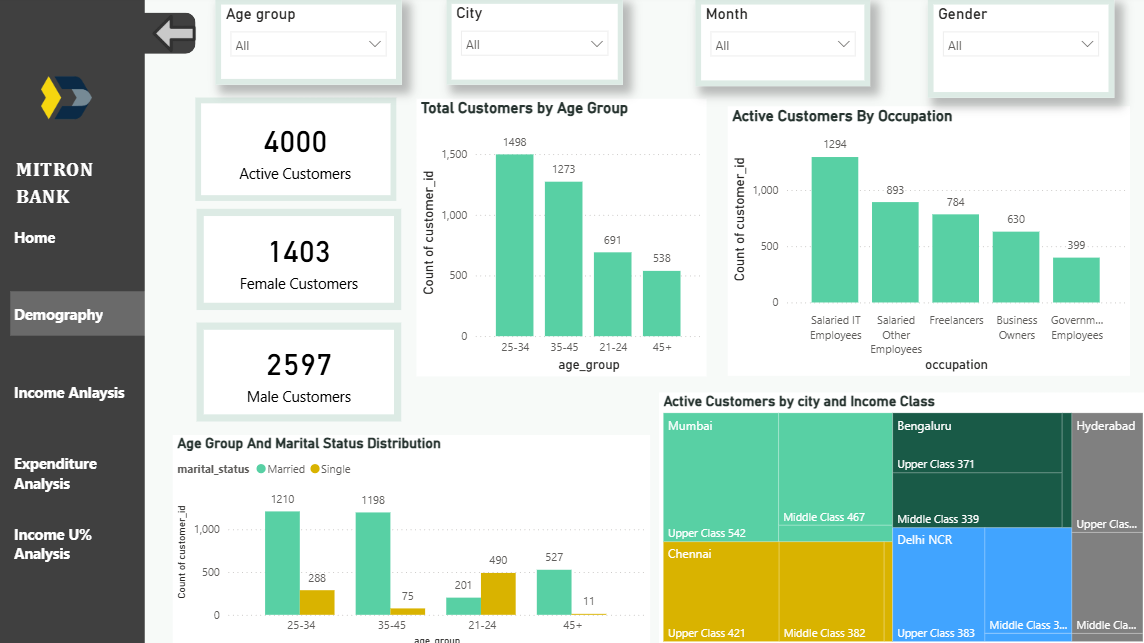

The dashboard page shown, as its layout file describes it:
{"tool":"powerbi","page":{"name":"Demography","canvas":[1280,720],"ordinal":1},"visuals":[{"type":"image","box":[23.9,2.4,101.9,220.5],"z":0,"group":"g1"},{"type":"card","fields":{"Values":["dim_customers_mitron_bank.Active Customers"]},"box":[215.4,112.5,220.9,113.9],"z":0},{"type":"shape","box":[0,0,160,720],"z":1000},{"type":"textbox","box":[13.9,170.1,121.1,72.3],"z":1000,"group":"g1"},{"type":"card","fields":{"Values":["dim_customers_mitron_bank.Female Customers"]},"box":[216.8,234.6,225,111.1],"z":2000},{"type":"shape","box":[150.4,18.6,65,45.4],"z":3000},{"type":"card","fields":{"Values":["dim_customers_mitron_bank.Male Customers"]},"box":[216.8,359.5,225,108.4],"z":4000},{"type":"actionButton","box":[12.5,324.6,147.8,48.9],"z":5000},{"type":"clusteredColumnChart","title":"Total Customers by Age Group","fields":{"Category":["dim_customers_mitron_bank.age_group"],"Y":["Count(dim_customers_mitron_bank.customer_id)"]},"box":[458.3,113.9,318.4,304.6],"z":6000},{"type":"image","box":[160.5,4.1,63.1,75.5],"z":7000},{"type":"actionButton","box":[12.3,572.2,144.1,59],"z":8000},{"type":"clusteredColumnChart","title":"Age Group And Marital Status Distribution","fields":{"Category":["dim_customers_mitron_bank.age_group"],"Y":["CountNonNull(dim_customers_mitron_bank.customer_id)"],"Series":["dim_customers_mitron_bank.marital_status"]},"box":[190.7,483,524.2,237.4],"z":9000},{"type":"actionButton","box":[12.5,242,147.8,48.9],"z":10000},{"type":"clusteredColumnChart","title":"Active Customers By Occupation","fields":{"Category":["dim_customers_mitron_bank.occupation"],"Y":["CountNonNull(dim_customers_mitron_bank.customer_id)"]},"box":[800,122.1,441.9,296.4],"z":11000},{"type":"actionButton","box":[12.5,411.9,147.8,48.9],"z":12000},{"type":"treemap","title":"Active Customers by city and Income Class","fields":{"Group":["dim_customers_mitron_bank.city"],"Details":["dim_customers_mitron_bank.income_class"],"Values":["CountNonNull(dim_customers_mitron_bank.customer_id)"]},"box":[724.5,436.4,536.5,278.6],"z":13000},{"type":"actionButton","box":[12.1,497.1,123.1,55.5],"z":14000},{"type":"group","id":"g1","title":"Group 1","box":[13.9,2.4,121.1,240.1],"z":15000},{"type":"slicer","title":"Age group","fields":{"Values":["dim_customers_mitron_bank.age_group"]},"box":[237.4,4.1,204.5,94.7],"z":16000},{"type":"slicer","title":"City","fields":{"Values":["dim_customers_mitron_bank.city"]},"box":[491.3,4.1,193.5,94.7],"z":17000},{"type":"slicer","title":"Month","fields":{"Values":["fact_spends mitron_bank.month"]},"box":[764.3,4.1,192.1,96.1],"z":18000},{"type":"slicer","title":"Gender","fields":{"Values":["dim_customers_mitron_bank.gender"]},"box":[1019.6,4.1,204.5,108.4],"z":19000}]}

Visuals, with their boxes on the page's 1280x720 design canvas (x1, y1, x2, y2). These are canvas units, not pixel positions in the 1144x643 screenshot, which may show the page scaled, cropped or inside an application window:
image: left=24, top=2, right=126, bottom=223
card - dim_customers_mitron_bank.Active Customers: left=215, top=112, right=436, bottom=226
shape: left=0, top=0, right=160, bottom=720
textbox: left=14, top=170, right=135, bottom=242
card - dim_customers_mitron_bank.Female Customers: left=217, top=235, right=442, bottom=346
shape: left=150, top=19, right=215, bottom=64
card - dim_customers_mitron_bank.Male Customers: left=217, top=360, right=442, bottom=468
actionButton: left=12, top=325, right=160, bottom=374
"Total Customers by Age Group" clusteredColumnChart: left=458, top=114, right=777, bottom=418
image: left=160, top=4, right=224, bottom=80
actionButton: left=12, top=572, right=156, bottom=631
"Age Group And Marital Status Distribution" clusteredColumnChart: left=191, top=483, right=715, bottom=720
actionButton: left=12, top=242, right=160, bottom=291
"Active Customers By Occupation" clusteredColumnChart: left=800, top=122, right=1242, bottom=418
actionButton: left=12, top=412, right=160, bottom=461
"Active Customers by city and Income Class" treemap: left=724, top=436, right=1261, bottom=715
actionButton: left=12, top=497, right=135, bottom=553
"Group 1" group: left=14, top=2, right=135, bottom=242
"Age group" slicer: left=237, top=4, right=442, bottom=99
"City" slicer: left=491, top=4, right=685, bottom=99
"Month" slicer: left=764, top=4, right=956, bottom=100
"Gender" slicer: left=1020, top=4, right=1224, bottom=112
